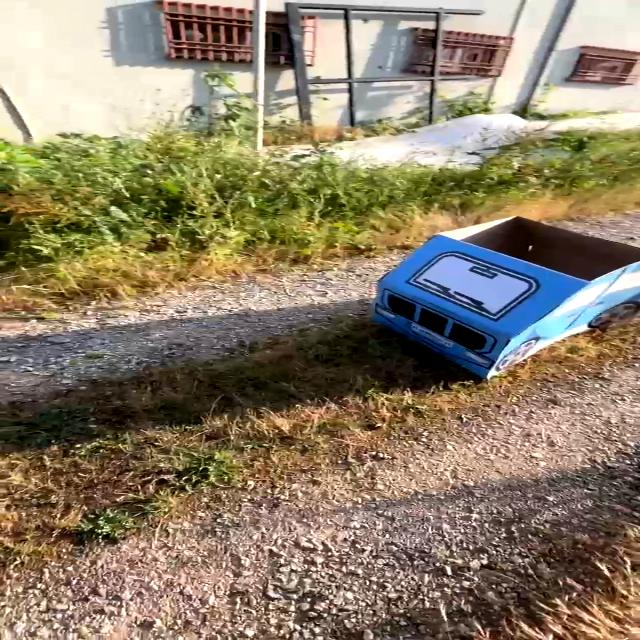blue_car: (320, 194, 640, 423)
